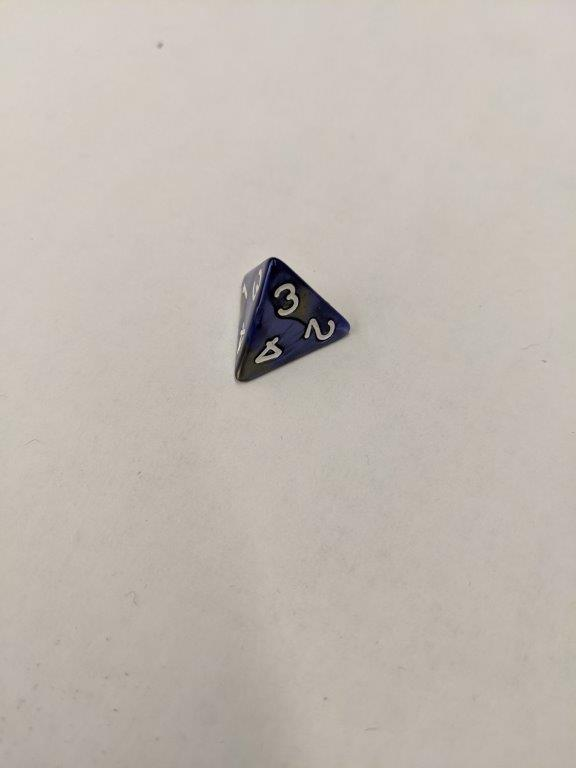d4-3: (231, 252, 353, 383)
